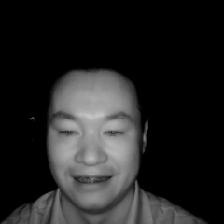happy: (38, 61, 159, 216)
